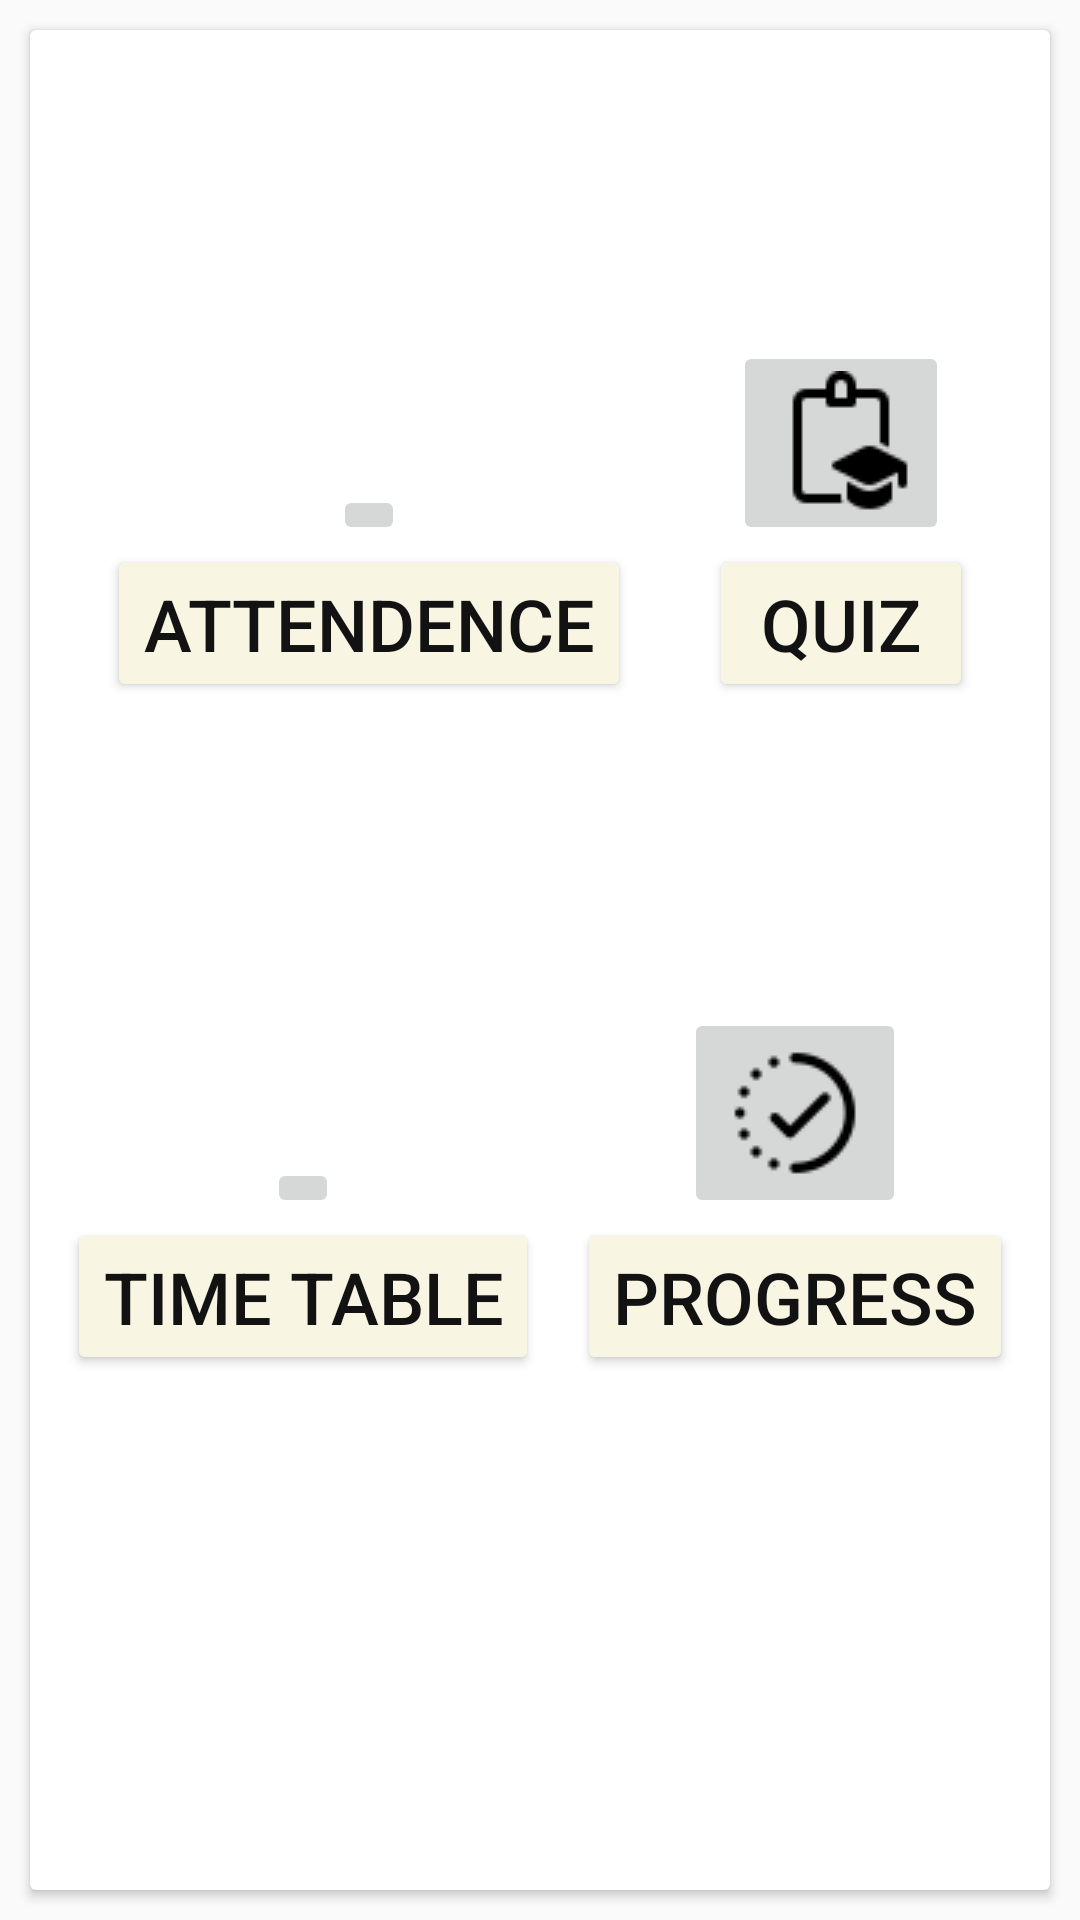

Screen size 1080x1920. Icon name, then its box in pixels as {"left": x1, "top": y1, "right": x2, "bottom": y2}:
syllabus: {"left": 745, "top": 359, "right": 937, "bottom": 527}
